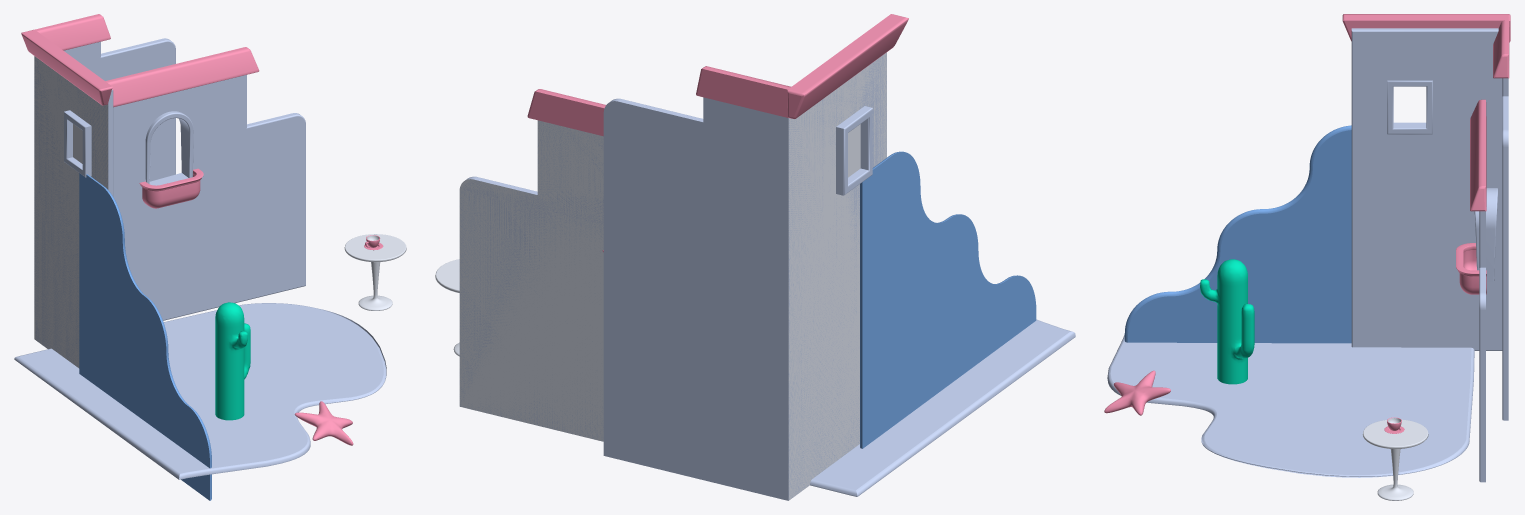
The model's file is scene2-static-output-1.gltf.
3 renders of one model, left to right at view 1: azimuth 30°, elevation 25°; view 2: azimuth 150°, elevation 25°; view 3: azimuth 270°, elevation 25°, orthographic. The views are drawn at different scales.
Parts seen in each view (by area): view 1: HousePart2, Lake, wavyThing, HousePart4Back, HousePart4, HousePart3, RoofPart2, Cactus, RoofPart4, Table, RoofPart3, BalconyFrame (+4 smaller); view 2: HousePart3, HousePart2Back, wavyThing, HousePart4Back, HousePart2, HousePart4, Lake, RoofPart4, RoofPart3, RoofPart2, WindowFrame, Table; view 3: HousePart4, Lake, wavyThing, Cactus, RoofPart4, HousePart3, Table, HousePart2, RoofPart2, WindowFrame, Starfish, BalconyFrame (+2 smaller).
Boxes of the visible parts, box(x1,y1,x2,y2) form: HousePart2: box(113, 75, 305, 320); Lake: box(14, 303, 386, 479); wavyThing: box(79, 173, 211, 500); HousePart4Back: box(34, 56, 108, 367); HousePart4: box(34, 58, 113, 366); HousePart3: box(35, 38, 175, 338); RoofPart2: box(105, 47, 259, 107); Cactus: box(215, 302, 250, 420); RoofPart4: box(21, 29, 112, 105); Table: box(344, 234, 406, 310); RoofPart3: box(35, 14, 110, 50); BalconyFrame: box(145, 111, 193, 185); HousePart3: box(603, 97, 791, 500); HousePart2Back: box(459, 120, 603, 441); wavyThing: box(860, 151, 1036, 448); HousePart4Back: box(788, 52, 886, 500); HousePart2: box(459, 121, 603, 441); HousePart4: box(783, 53, 886, 500); Lake: box(810, 319, 1075, 496); RoofPart4: box(787, 14, 908, 118); RoofPart3: box(696, 66, 791, 117); RoofPart2: box(527, 89, 605, 136); WindowFrame: box(836, 106, 872, 195); Table: box(435, 259, 459, 356); HousePart4: box(1351, 28, 1502, 350); Lake: box(1107, 335, 1474, 477); wavyThing: box(1124, 125, 1351, 343); Cactus: box(1200, 259, 1254, 384); RoofPart4: box(1342, 14, 1510, 42); HousePart3: box(1502, 78, 1508, 420); Table: box(1362, 419, 1428, 500); HousePart2: box(1479, 211, 1485, 482); RoofPart2: box(1470, 99, 1486, 211); WindowFrame: box(1387, 80, 1432, 134); Starfish: box(1104, 370, 1170, 415); BalconyFrame: box(1474, 188, 1497, 281).
Bounding box in the file's own units: 656 × 603 × 621.
